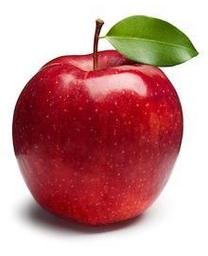apple: (11, 48, 183, 226)
